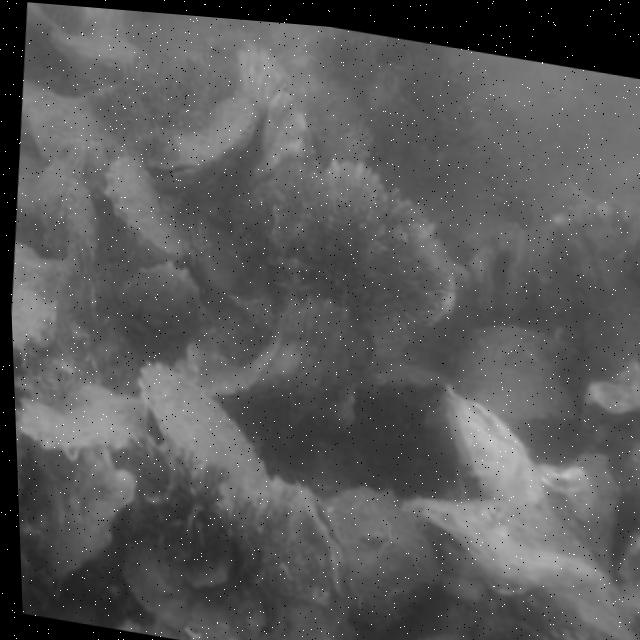Oyster-Closed: (140, 363, 269, 505), (138, 92, 261, 193)
Oyster-Indeterminate: (205, 304, 377, 448), (402, 496, 615, 587), (322, 486, 442, 630), (229, 479, 345, 615), (23, 443, 136, 580), (226, 49, 320, 205), (454, 325, 578, 439), (476, 562, 640, 640), (442, 393, 545, 501), (108, 152, 198, 264), (15, 375, 140, 448), (11, 247, 74, 369), (122, 264, 199, 328), (51, 31, 149, 76), (587, 367, 640, 429)
